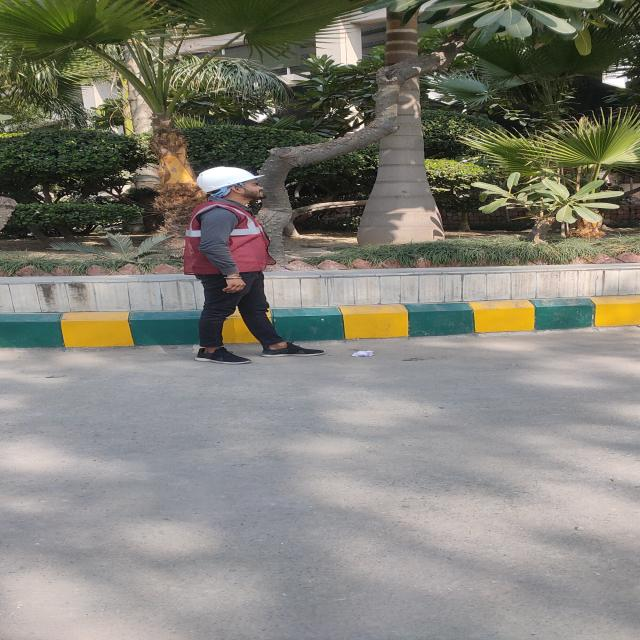safe: (185, 167, 277, 364)
